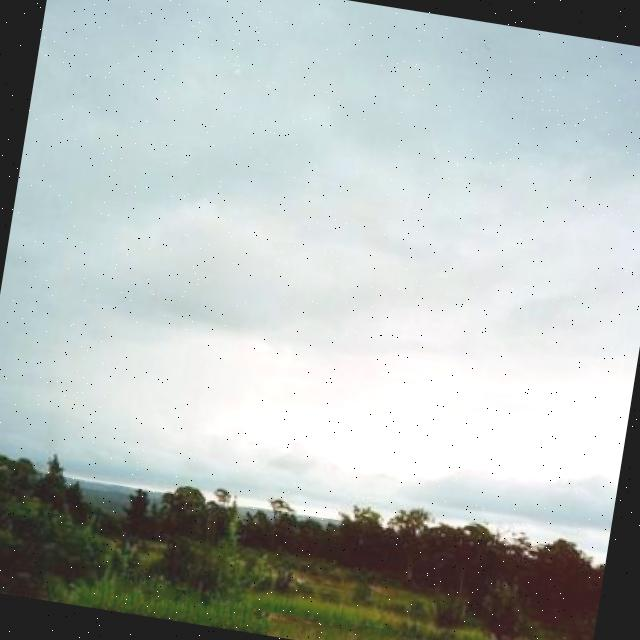Sc: (1, 1, 640, 492)
